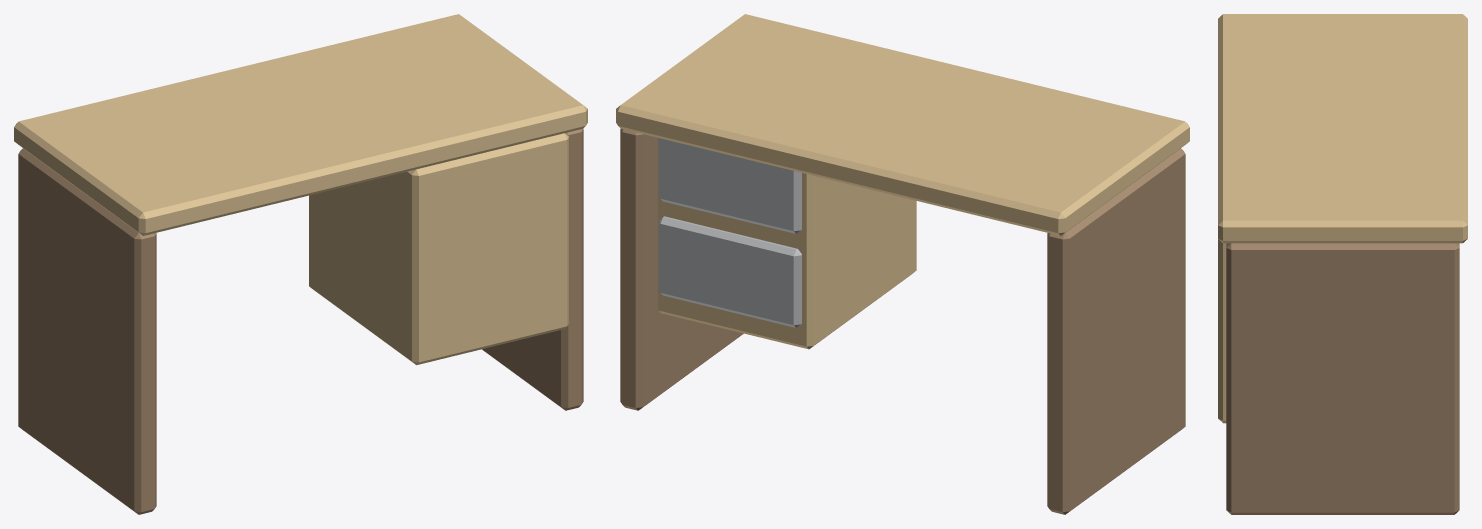
3 views of the same model, side by side, from view 1: azimuth 30°, elevation 25°; view 2: azimuth 150°, elevation 25°; view 3: azimuth 270°, elevation 25° (orthographic). The views are drawn at different scales.
Visible parts, largest first — view 1: 桌面.002, 侧板, 抽屉柜; view 2: 桌面.002, 侧板, 抽屉面板, 抽屉柜; view 3: 侧板, 桌面.002, 抽屉柜.
Boxes of the visible parts, x1,y1,x2,y2 form: 桌面.002: (14,14,587,235); 侧板: (18,129,583,514); 抽屉柜: (309,133,568,365); 桌面.002: (616,14,1189,235); 侧板: (620,129,1185,514); 抽屉面板: (658,138,801,327); 抽屉柜: (658,138,916,349); 侧板: (1226,243,1459,514); 桌面.002: (1218,14,1467,243); 抽屉柜: (1218,239,1226,423).
Bounding box in the file's own units: 120 × 78 × 60.
